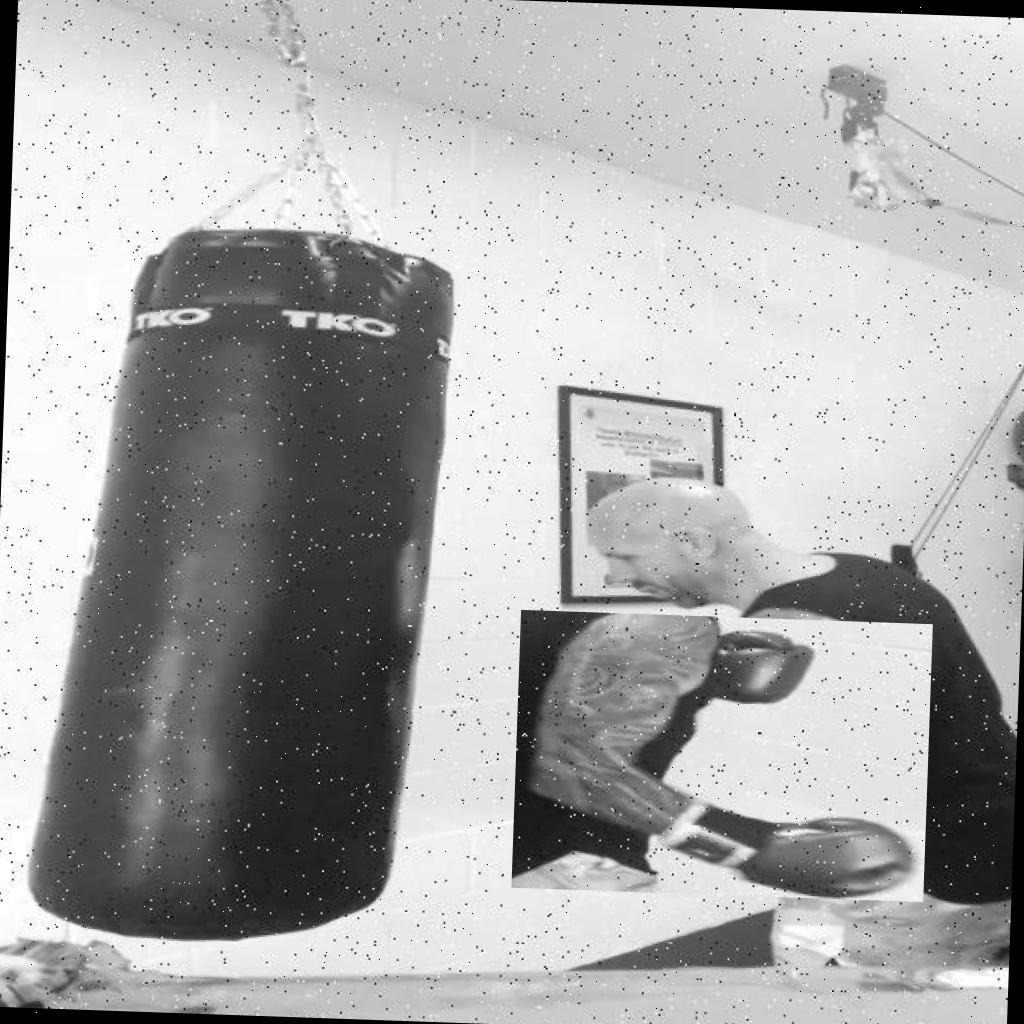bag: (40, 218, 448, 947)
uppercut: (511, 610, 932, 902)
